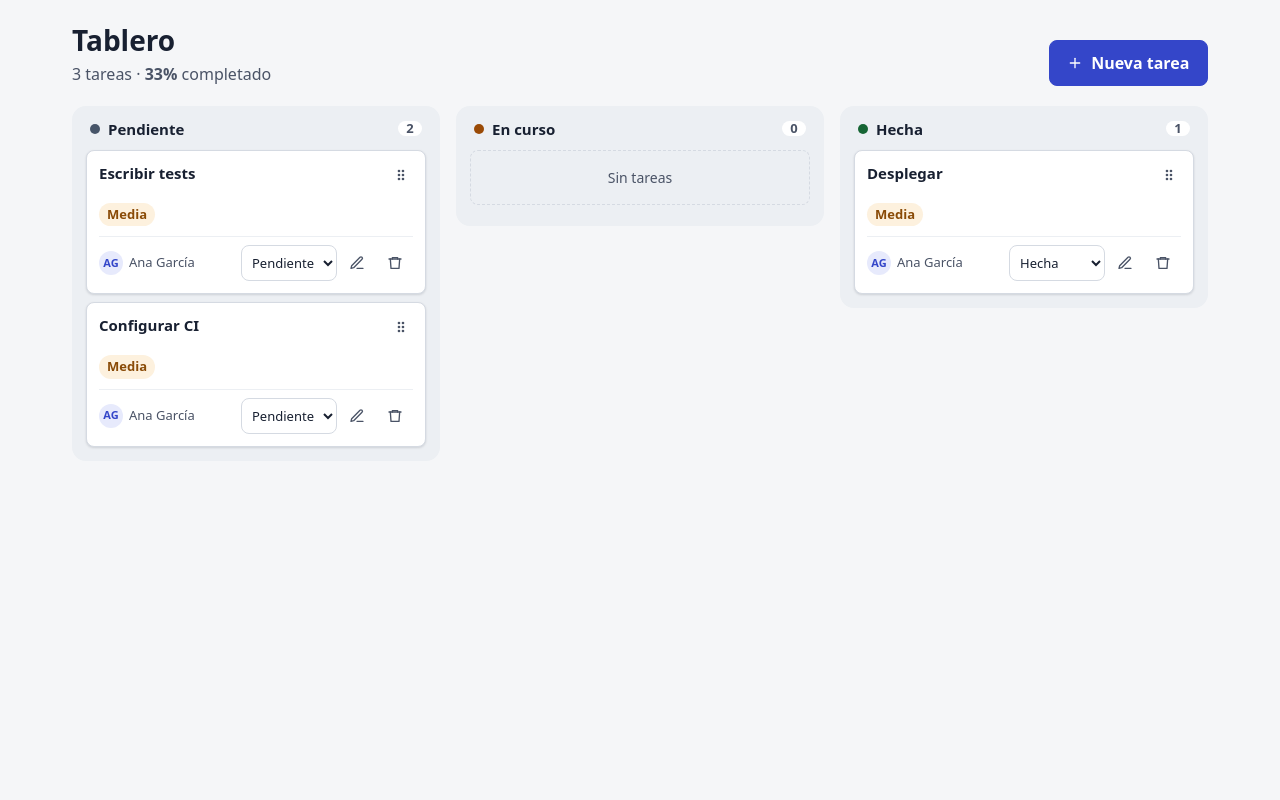
Test case: Tablero › crea una tarea desde el diálogo y la añade a Pendiente
Step 1. Click the button "Nueva tarea" → (1128, 63), box [1048,40,1208,86]
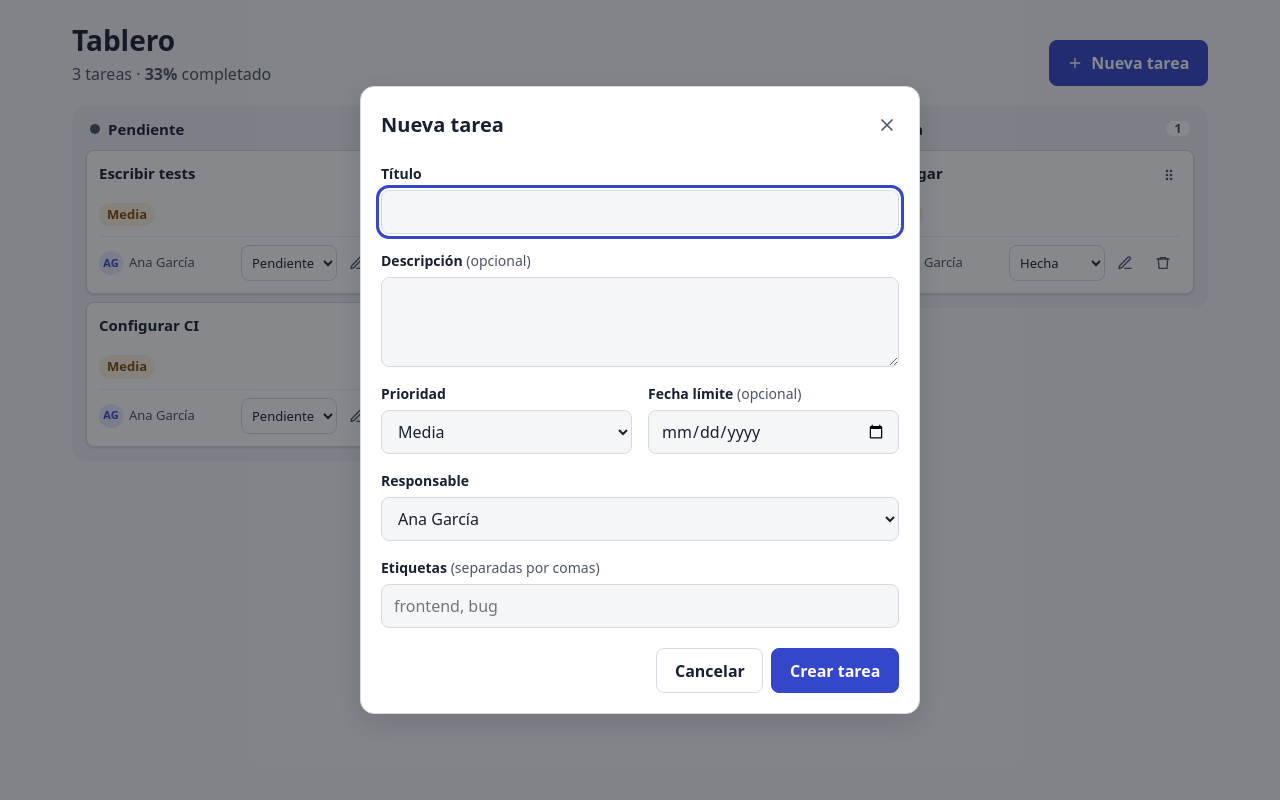
Step 2. Type "Revisar la PR" into the field labelled "Título" → (640, 212), box [381,190,899,234]
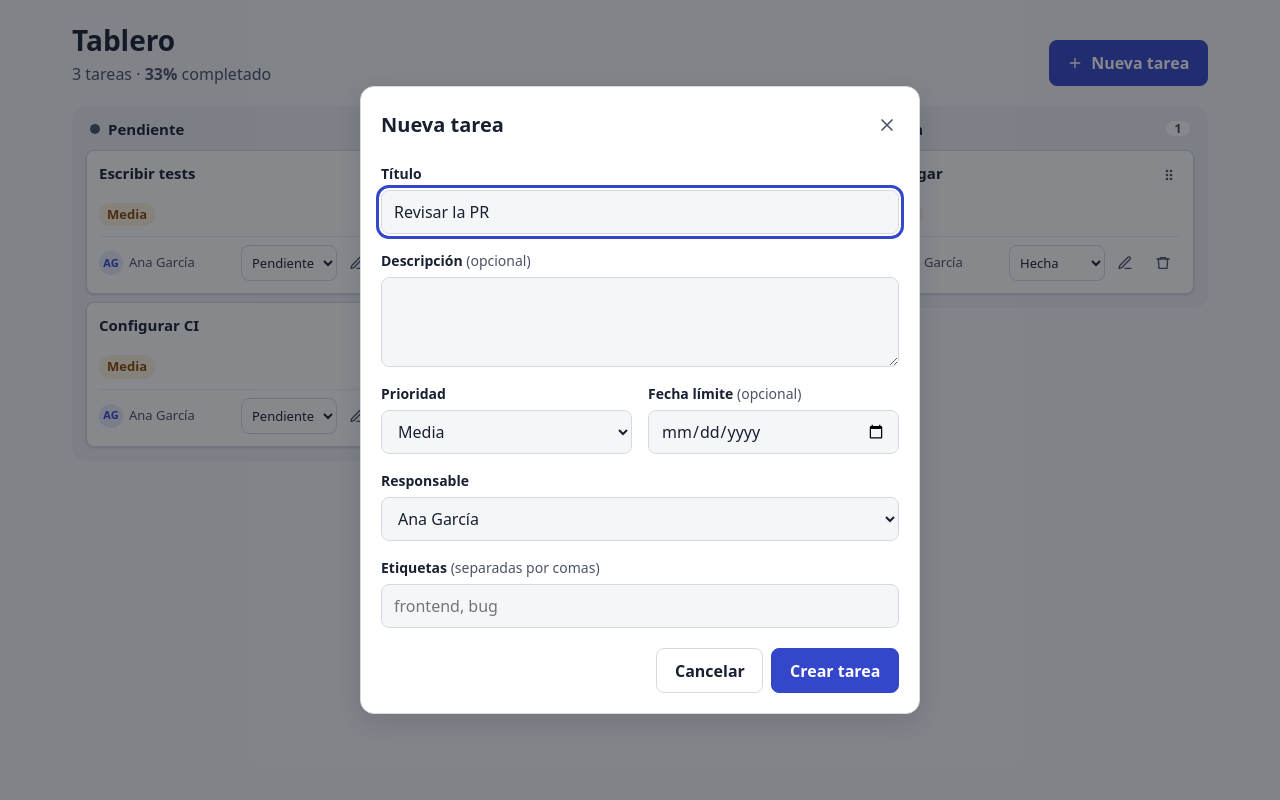
Step 3. Click the button "Crear tarea" → (835, 670), box [772,648,899,693]
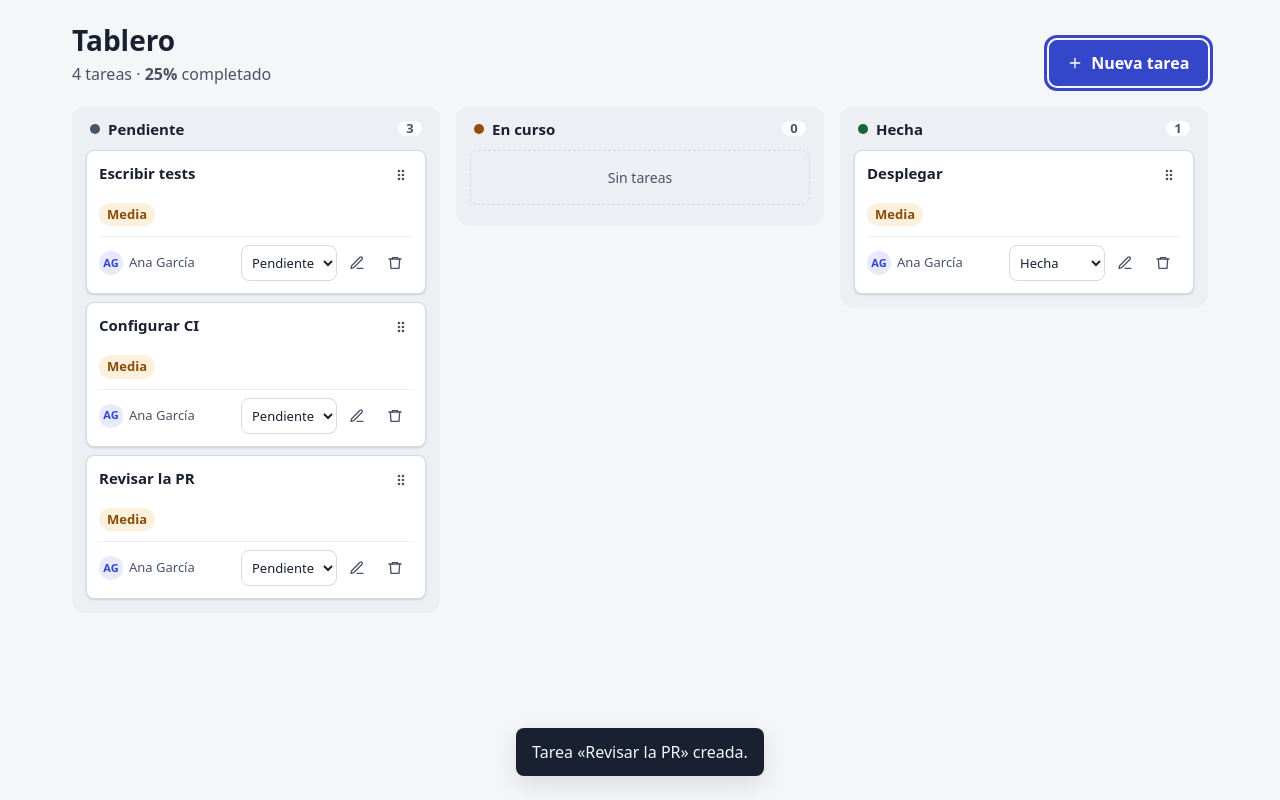
Now the link "Revisar la PR" is shown, box [99,468,195,488]
Now the dialog is gone
Now the text "Tarea «Revisar la PR» creada." is shown, box [516,728,764,776]
